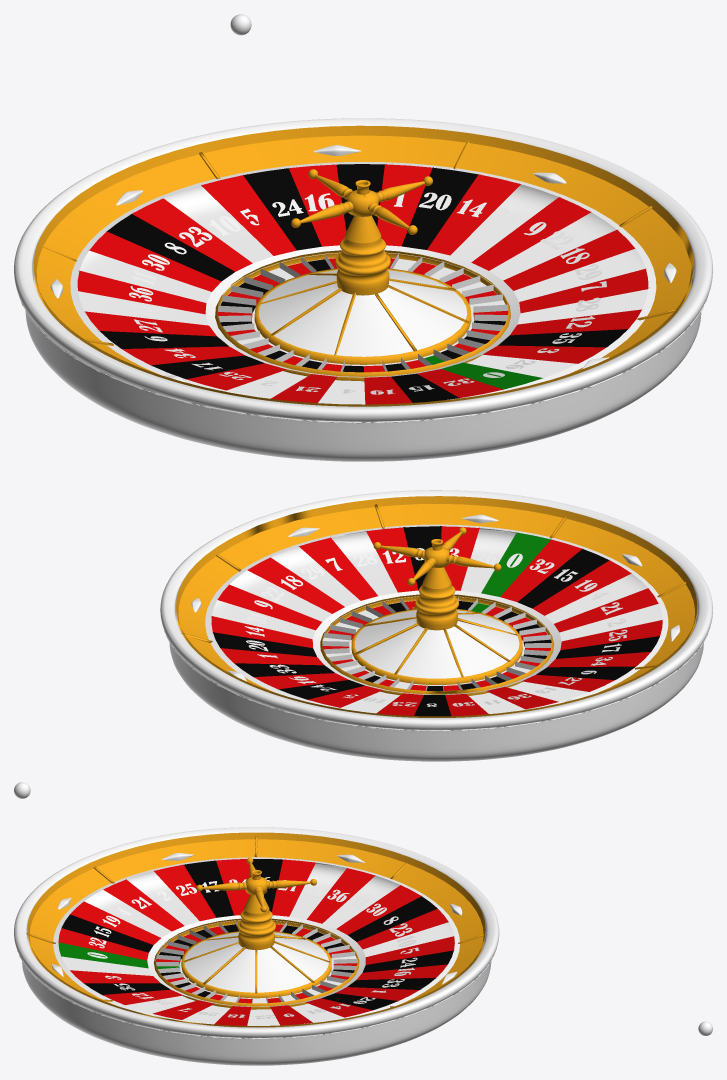
File: roulette-visual-source.glb
3 renders of one model, top to bottom at view 1: azimuth 30°, elevation 25°; view 2: azimuth 150°, elevation 25°; view 3: azimuth 270°, elevation 25°, orthographic. The views are drawn at different scales.
Visible parts, largest first — view 1: Text_29, ROULETTE MAIN_31, ROULETTE MAIN.003_33, ROULETTE MAIN.002_32; view 2: Text_29, ROULETTE MAIN_31, ROULETTE MAIN.003_33, ROULETTE MAIN.002_32; view 3: Text_29, ROULETTE MAIN_31, ROULETTE MAIN.003_33, ROULETTE MAIN.002_32.
Boxes of the visible parts, left/top/right/bottom form: Text_29: left=70, top=161, right=656, bottom=404; ROULETTE MAIN_31: left=14, top=118, right=712, bottom=461; ROULETTE MAIN.003_33: left=34, top=135, right=692, bottom=374; ROULETTE MAIN.002_32: left=33, top=125, right=694, bottom=406; Text_29: left=205, top=524, right=668, bottom=716; ROULETTE MAIN_31: left=160, top=490, right=712, bottom=761; ROULETTE MAIN.003_33: left=176, top=504, right=696, bottom=692; ROULETTE MAIN.002_32: left=176, top=496, right=697, bottom=717; Text_29: left=53, top=857, right=459, bottom=1025; ROULETTE MAIN_31: left=14, top=827, right=499, bottom=1065; ROULETTE MAIN.003_33: left=28, top=839, right=484, bottom=1005; ROULETTE MAIN.002_32: left=27, top=832, right=485, bottom=1027.
Bounding box in the file's own units: 4.12 × 0.9536 × 5.93.
